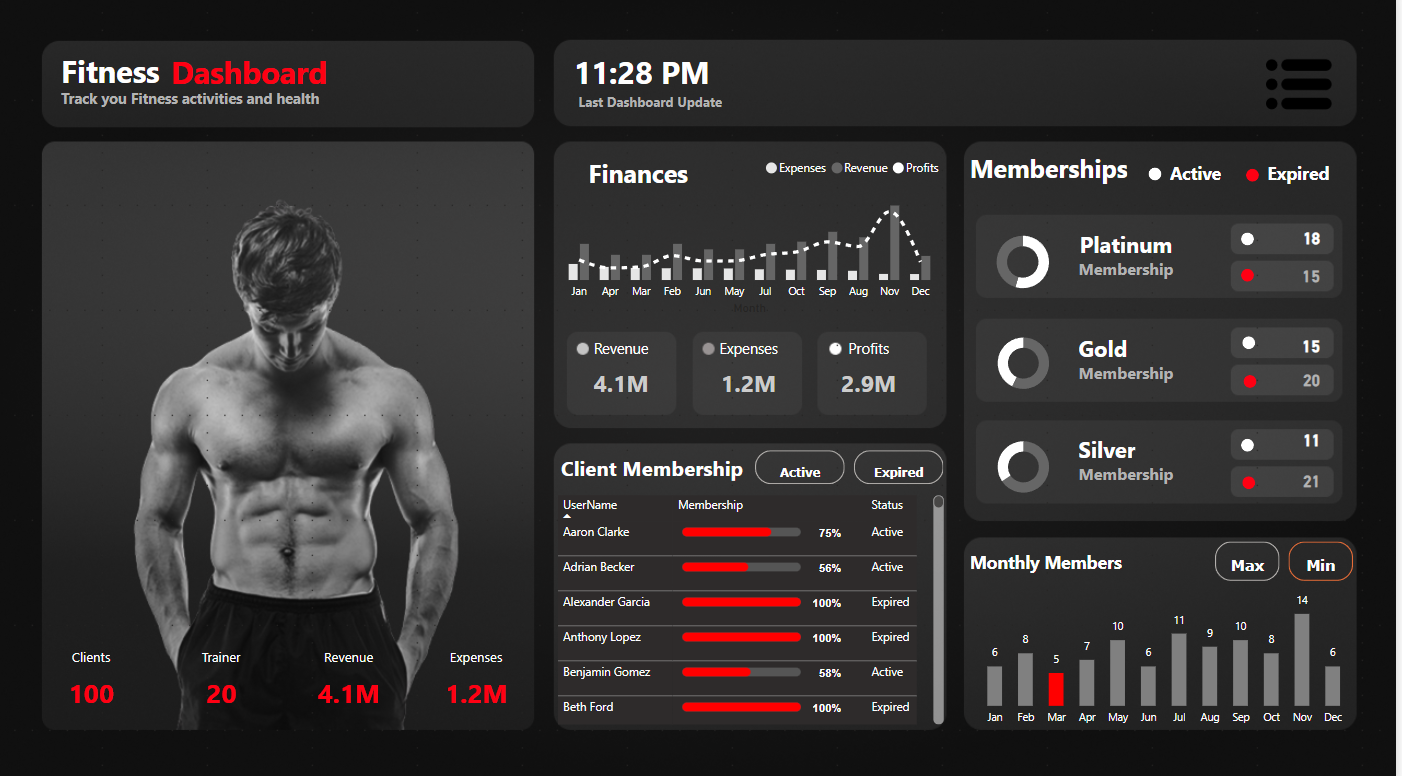

Layout of this report page (visuals, bound fields, positions):
{"tool":"powerbi","page":{"name":"Page 1","canvas":[1280,720],"ordinal":0},"visuals":[{"type":"cardVisual","fields":{"Data":["_Measures.Users_Cont"]},"box":[32.6,580.3,118.2,79.6],"z":0},{"type":"cardVisual","fields":{"Data":["Count(Users.Trainer Name)"]},"box":[150.8,580.3,96.5,79.6],"z":1000},{"type":"cardVisual","fields":{"Data":["_Measures.Revenue"]},"box":[266.6,580.3,126.7,79.6],"z":2000},{"type":"cardVisual","fields":{"Data":["_Measures.Expenses"]},"box":[383.6,580.3,123.1,79.6],"z":3000},{"type":"cardVisual","fields":{"Data":["_Measures.Revenue"]},"box":[516.7,297.3,110,80],"z":4000},{"type":"cardVisual","fields":{"Data":["_Measures.Expenses"]},"box":[633.3,297.3,110,80],"z":5000},{"type":"cardVisual","fields":{"Data":["_Measures.Profits"]},"box":[743.1,297.5,110.2,80.6],"z":6000},{"type":"lineClusteredColumnComboChart","fields":{"Category":["Calendra.Month"],"Y":["_Measures.Expenses","_Measures.Revenue"],"Y2":["_Measures.Profits"]},"box":[507.3,139.9,363.9,157.6],"z":7000},{"type":"shape","box":[541.6,139.9,147,46.2],"z":8000},{"type":"clusteredColumnChart","fields":{"Y":["_Measures.Users_Cont"],"Category":["Calendra.Month"]},"box":[890.1,533.3,355.6,143.4],"z":9000},{"type":"shape","box":[890.1,495.4,147,46.2],"z":10000},{"type":"advancedSlicerVisual","fields":{"Values":["Min_Max_Switch.Type"]},"box":[1109.3,495.4,136.3,46.2],"z":11000},{"type":"tableEx","fields":{"Values":["Users.UserName","_Measures.SVG_BarChart1","Users.Status"]},"box":[506.7,452.4,364.3,219.6],"z":12000},{"type":"advancedSlicerVisual","fields":{"Values":["Users.Status"]},"box":[688.6,411.3,182.5,41.5],"z":13000},{"type":"shape","box":[516.7,411.3,171.9,41.5],"z":14000},{"type":"shape","box":[990.8,204.6,147,46.2],"z":15000},{"type":"shape","box":[989.6,299.4,147,46.2],"z":16000},{"type":"shape","box":[989.6,391.8,147,46.2],"z":17000},{"type":"shape","box":[989.4,227.4,147,46.2],"z":18000},{"type":"shape","box":[989.4,322.2,147,46.2],"z":19000},{"type":"shape","box":[989.4,414.6,147,46.2],"z":20000},{"type":"donutChart","fields":{"Y":["_Measures.User_Platinum"],"Category":["Users.Status"]},"box":[904.3,205,69.9,79.4],"z":21000},{"type":"donutChart","fields":{"Y":["_Measures.User_Gold"],"Category":["Users.Status"]},"box":[905.5,297.5,68.7,79.4],"z":22000},{"type":"donutChart","fields":{"Y":["_Measures.User_Silver"],"Category":["Users.Status"]},"box":[905.5,392.3,68.7,79.4],"z":23000},{"type":"cardVisual","fields":{"Data":["_Measures.Platinum_Active"]},"box":[1172.1,194.4,58.1,45],"z":24000},{"type":"cardVisual","fields":{"Data":["_Measures.Platinum_Expired"]},"box":[1172.1,228.7,58.1,45],"z":25000},{"type":"cardVisual","fields":{"Data":["_Measures.Gold_Active"]},"box":[1172.1,292.7,58.1,45],"z":26000},{"type":"cardVisual","fields":{"Data":["_Measures.Gold_Expired"]},"box":[1172.1,323.6,58.1,45],"z":27000},{"type":"cardVisual","fields":{"Data":["_Measures.silver_Active"]},"box":[1172.1,378.1,58.1,45],"z":28000},{"type":"cardVisual","fields":{"Data":["_Measures.silver_Expired"]},"box":[1172.1,416,58.1,45],"z":29000},{"type":"shape","box":[1137.8,216.9,11.9,11.9],"z":30000},{"type":"shape","box":[1137.8,250.1,11.9,11.9],"z":31000},{"type":"shape","box":[1140.1,347.3,11.9,11.9],"z":32000},{"type":"shape","box":[1139,439.7,11.9,11.9],"z":33000},{"type":"shape","box":[1139,311.7,11.9,11.9],"z":34000},{"type":"shape","box":[1137.8,405.3,11.9,11.9],"z":35000},{"type":"shape","box":[1053.6,157.6,11.9,11.9],"z":36000},{"type":"shape","box":[1072.6,139.9,55.7,46.2],"z":37000},{"type":"shape","box":[1142.5,158.8,11.9,11.9],"z":38000},{"type":"shape","box":[1162.7,139.9,69.9,46.2],"z":39000},{"type":"shape","box":[890.1,135.1,155.3,46.2],"z":40000},{"type":"shape","box":[59.3,46.2,147,46.2],"z":41000},{"type":"shape","box":[160,47.4,147,46.2],"z":42000},{"type":"shape","box":[59.3,71.1,247.7,46.2],"z":43000},{"type":"image","box":[1136.6,47.4,107.9,69.9],"z":44000},{"type":"shape","box":[451.6,35.6,277.3,68.7],"z":45000},{"type":"shape","box":[532.1,74.7,247.7,46.2],"z":46000}]}

Visuals, with their boxes in screenshot pixels (x1, y1, x2, y2), scaled from the page's 1280x720 canvas onto the 1402x776 screenshot:
cardVisual - _Measures.Users_Cont: l=36, t=625, r=165, b=711
cardVisual - Count(Users.Trainer Name): l=165, t=625, r=271, b=711
cardVisual - _Measures.Revenue: l=292, t=625, r=431, b=711
cardVisual - _Measures.Expenses: l=420, t=625, r=555, b=711
cardVisual - _Measures.Revenue: l=566, t=320, r=686, b=407
cardVisual - _Measures.Expenses: l=694, t=320, r=814, b=407
cardVisual - _Measures.Profits: l=814, t=321, r=935, b=408
lineClusteredColumnComboChart - Calendra.Month x _Measures.Expenses: l=556, t=151, r=954, b=321
shape: l=593, t=151, r=754, b=201
clusteredColumnChart - _Measures.Users_Cont x Calendra.Month: l=975, t=575, r=1364, b=729
shape: l=975, t=534, r=1136, b=584
advancedSlicerVisual - Min_Max_Switch.Type: l=1215, t=534, r=1364, b=584
tableEx - Users.UserName x _Measures.SVG_BarChart1: l=555, t=488, r=954, b=724
advancedSlicerVisual - Users.Status: l=754, t=443, r=954, b=488
shape: l=566, t=443, r=754, b=488
shape: l=1085, t=221, r=1246, b=270
shape: l=1084, t=323, r=1245, b=372
shape: l=1084, t=422, r=1245, b=472
shape: l=1084, t=245, r=1245, b=295
shape: l=1084, t=347, r=1245, b=397
shape: l=1084, t=447, r=1245, b=497
donutChart - _Measures.User_Platinum x Users.Status: l=990, t=221, r=1067, b=307
donutChart - _Measures.User_Gold x Users.Status: l=992, t=321, r=1067, b=406
donutChart - _Measures.User_Silver x Users.Status: l=992, t=423, r=1067, b=508
cardVisual - _Measures.Platinum_Active: l=1284, t=210, r=1347, b=258
cardVisual - _Measures.Platinum_Expired: l=1284, t=246, r=1347, b=295
cardVisual - _Measures.Gold_Active: l=1284, t=315, r=1347, b=364
cardVisual - _Measures.Gold_Expired: l=1284, t=349, r=1347, b=397
cardVisual - _Measures.silver_Active: l=1284, t=408, r=1347, b=456
cardVisual - _Measures.silver_Expired: l=1284, t=448, r=1347, b=497
shape: l=1246, t=234, r=1259, b=247
shape: l=1246, t=270, r=1259, b=282
shape: l=1249, t=374, r=1262, b=387
shape: l=1248, t=474, r=1261, b=487
shape: l=1248, t=336, r=1261, b=349
shape: l=1246, t=437, r=1259, b=450
shape: l=1154, t=170, r=1167, b=183
shape: l=1175, t=151, r=1236, b=201
shape: l=1251, t=171, r=1264, b=184
shape: l=1274, t=151, r=1350, b=201
shape: l=975, t=146, r=1145, b=195
shape: l=65, t=50, r=226, b=100
shape: l=175, t=51, r=336, b=101
shape: l=65, t=77, r=336, b=126
image: l=1245, t=51, r=1363, b=126
shape: l=495, t=38, r=798, b=112
shape: l=583, t=81, r=854, b=130
